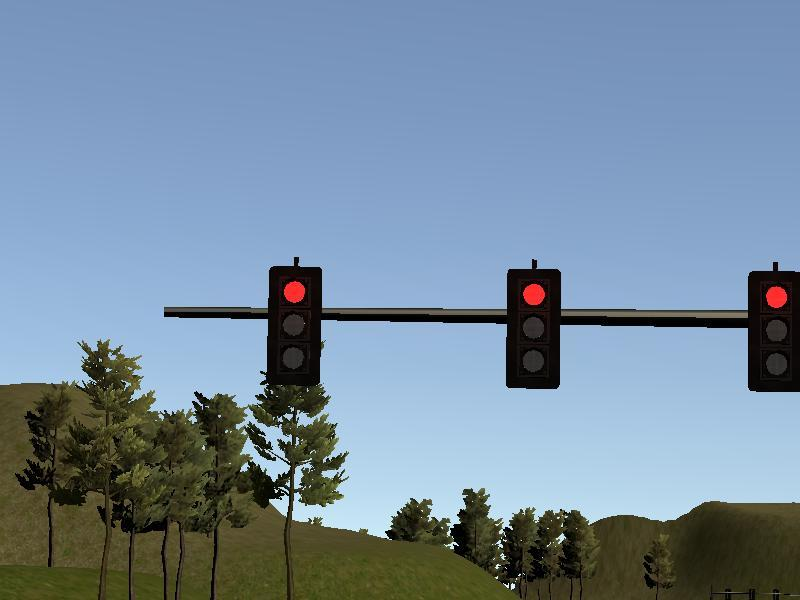Red: (506, 268, 561, 388), (746, 271, 800, 392), (267, 267, 320, 386)
